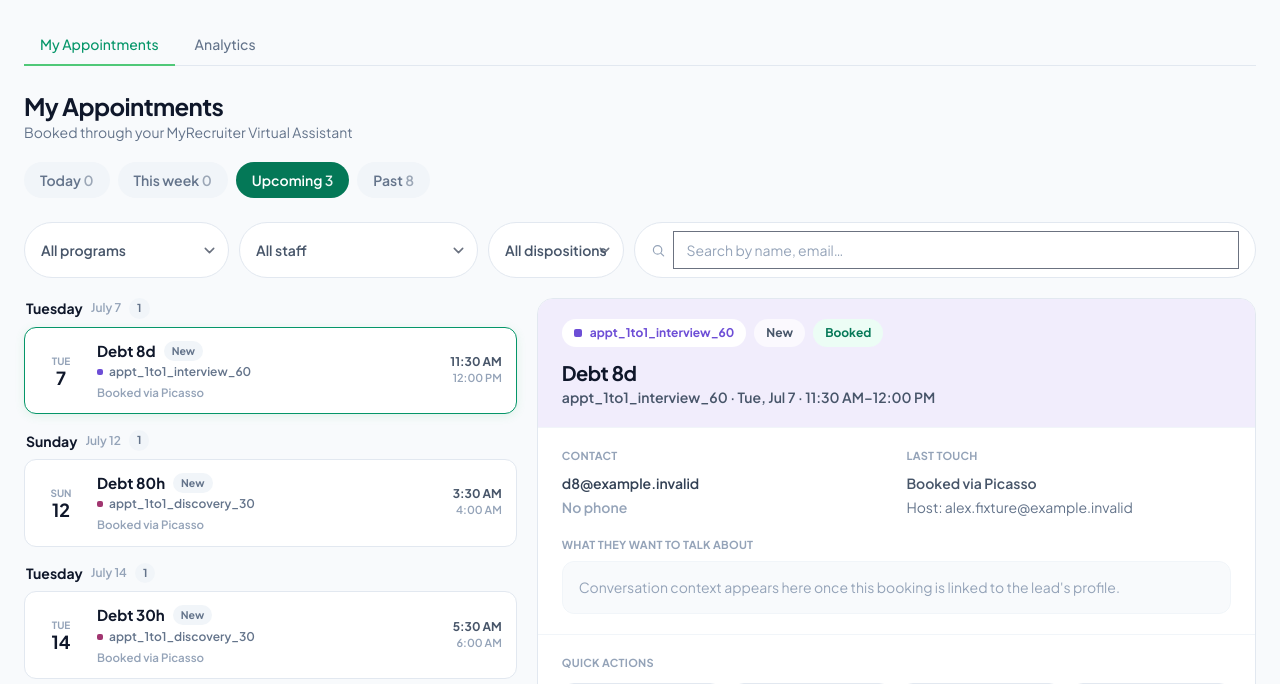
Test case: SchedulingPage (E12 + E15 container) › switches to the Analytics sub-tab on click
Expected: the heading "My Appointments" is shown, 24,91 -> 223,121
Click the button "Analytics" at (225, 45), box 179,24 -> 272,66
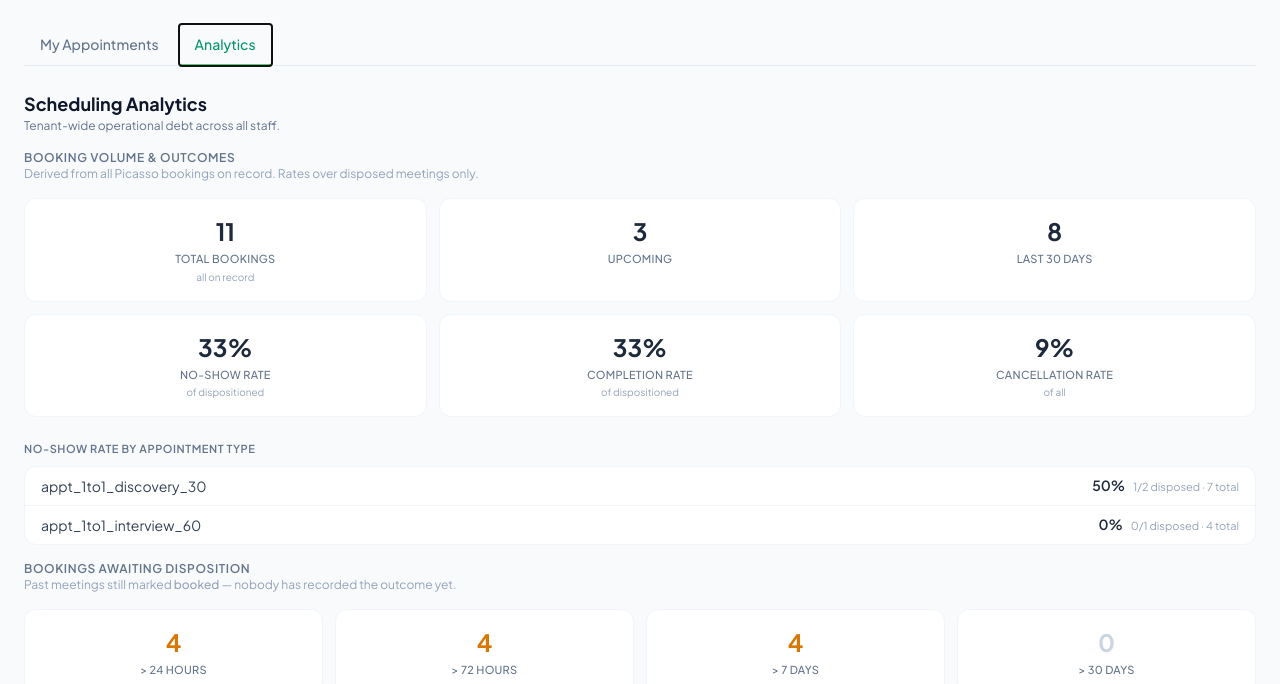
Result: the heading "Scheduling Analytics" is shown at 24,92 -> 207,115
